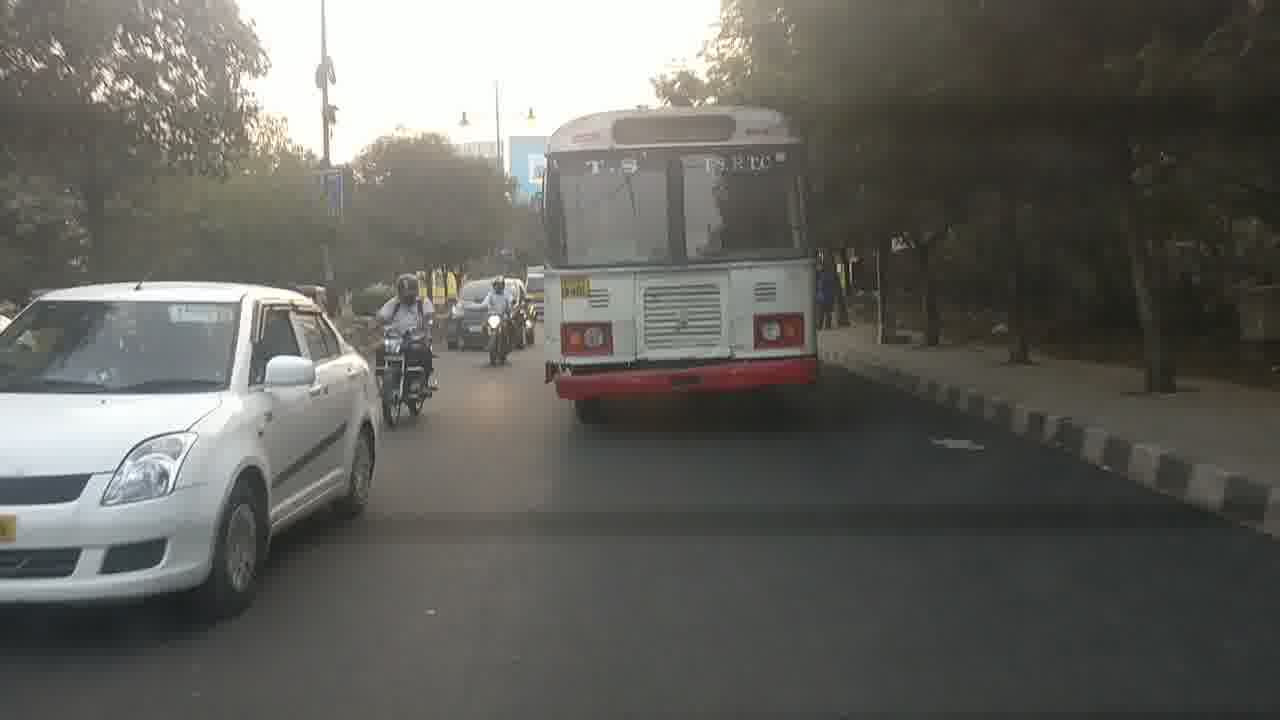swift desire: (4, 291, 374, 594)
